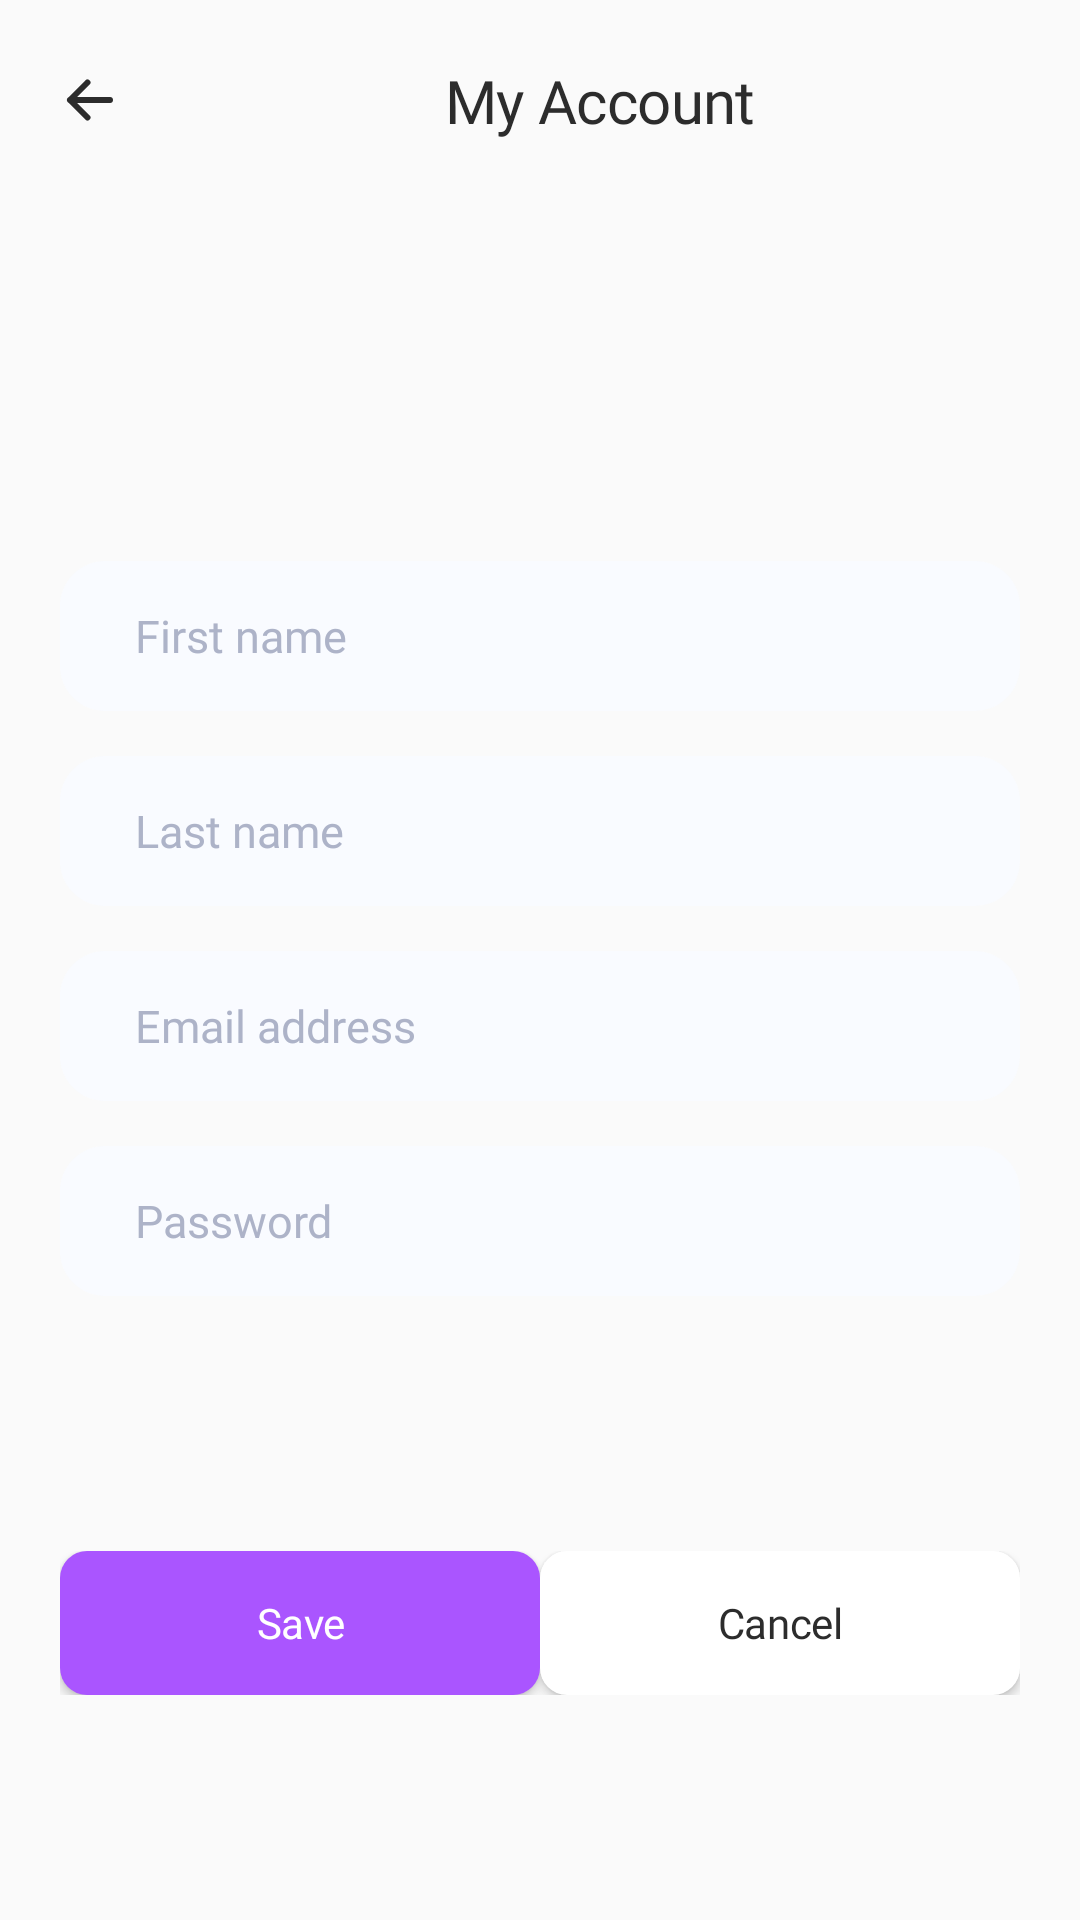

Point at icon controls on the screen. Image size 1080*1920, points as (x,y).
navigation back: (90,100)
